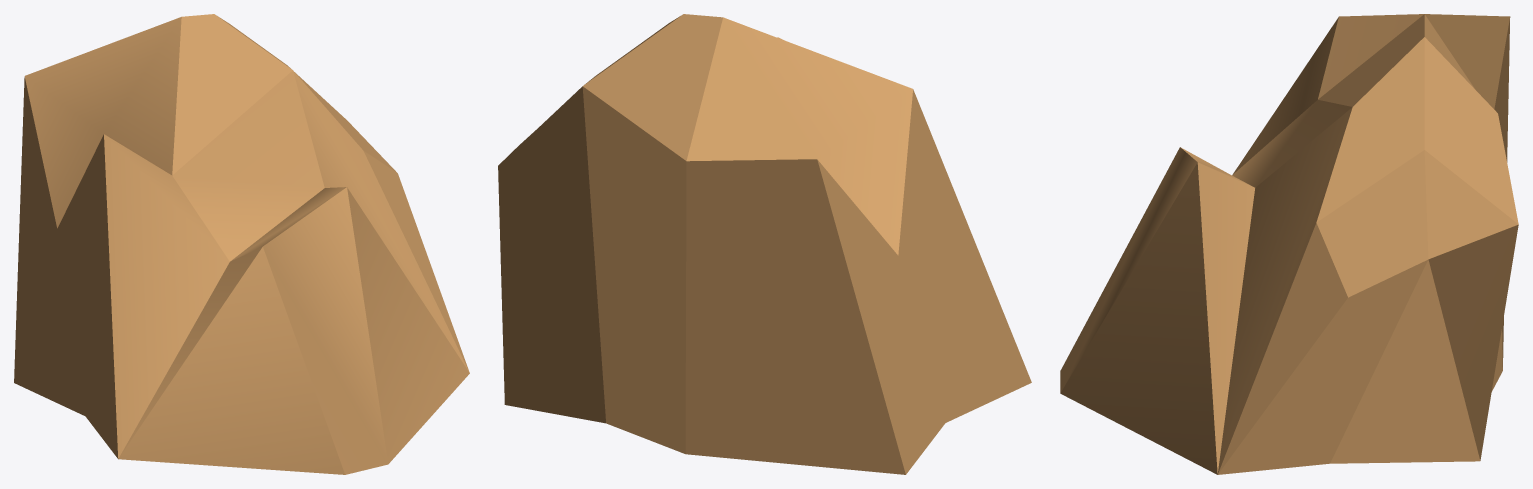
The model's file is decoration_stone_13.glb.
3 views of the same model, side by side, from view 1: azimuth 30°, elevation 25°; view 2: azimuth 150°, elevation 25°; view 3: azimuth 270°, elevation 25° (orthographic). The views are drawn at different scales.
Visible parts, largest first — view 1: Plane.062; view 2: Plane.062; view 3: Plane.062.
Boxes of the visible parts, box(x1,y1,x2,y2) form: Plane.062: box(14, 14, 469, 474); Plane.062: box(498, 14, 1031, 474); Plane.062: box(1060, 14, 1518, 474).
Size of the model in its own units: 13.13 by 12.1 by 13.74.
Materials: 1 (1 with a texture image).
